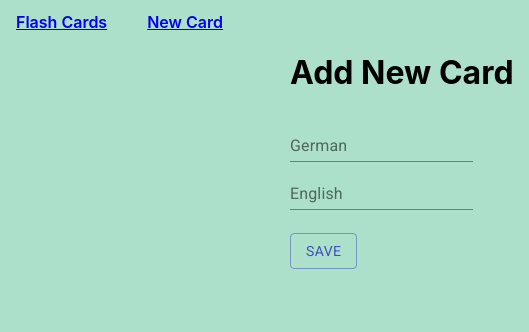
Test case: Add new card › displays validation messages on submission when mandatory fields are empty
Click the text "Save" at (324, 252), box [306, 239, 341, 264]
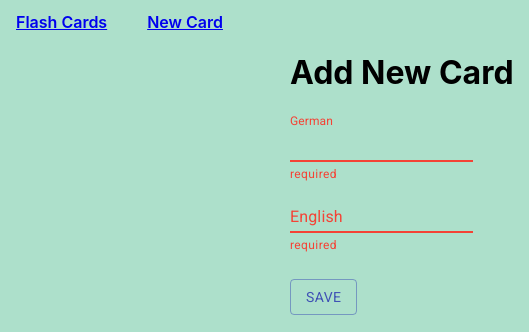
Result: the text "required" below "German" is shown at [290, 167, 337, 181]
Result: the text "required" below "English" is shown at [290, 238, 337, 252]
